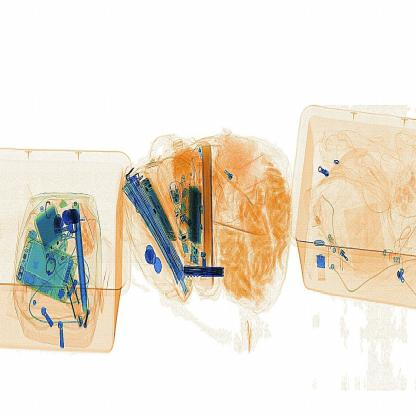scissors: (177, 260, 232, 286)
